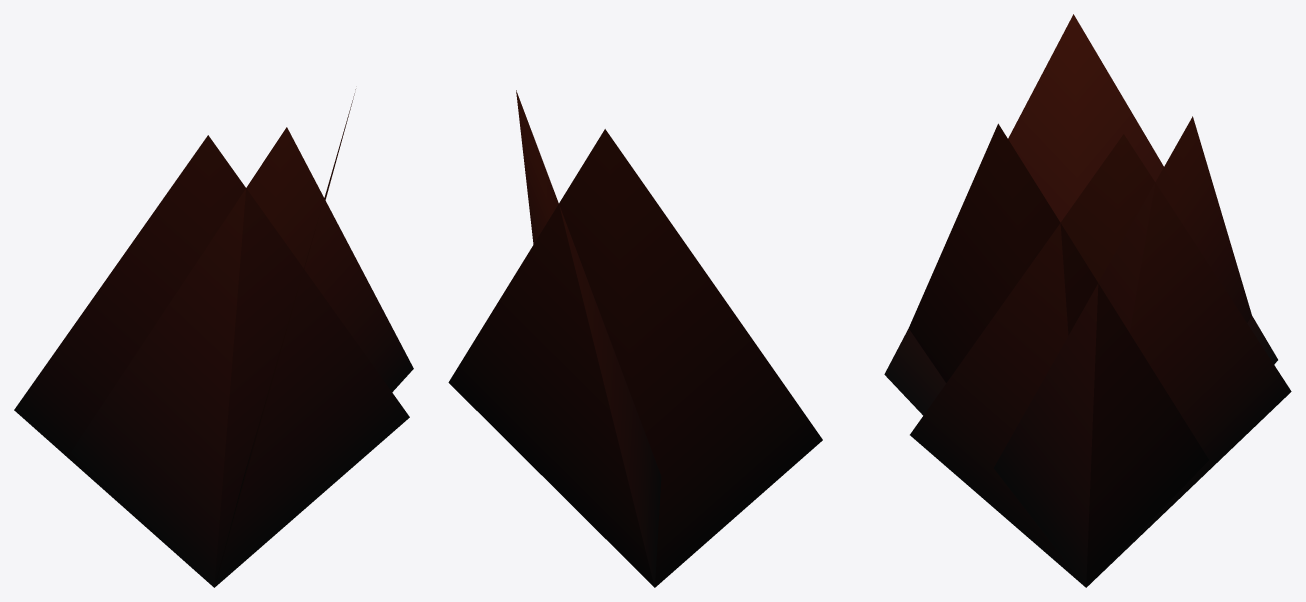
File: fern.glb
3 views of the same model, side by side, from view 1: azimuth 30°, elevation 25°; view 2: azimuth 150°, elevation 25°; view 3: azimuth 270°, elevation 25° (orthographic).
Visible parts, largest first — view 1: leaves_fern.005, leaves_fern, leaves_fern.003; view 2: leaves_fern.004, leaves_fern.001; view 3: leaves_fern.006, leaves_fern.003, leaves_fern.001, leaves_fern.002.
Boxes of the visible parts, x1=… form: leaves_fern.005: x1=14, y1=135, x2=409, y2=587; leaves_fern: x1=71, y1=127, x2=413, y2=587; leaves_fern.003: x1=216, y1=89, x2=355, y2=580; leaves_fern.004: x1=448, y1=129, x2=822, y2=587; leaves_fern.001: x1=516, y1=90, x2=661, y2=587; leaves_fern.006: x1=910, y1=134, x2=1291, y2=587; leaves_fern.003: x1=908, y1=123, x2=1208, y2=587; leaves_fern.001: x1=994, y1=116, x2=1251, y2=587; leaves_fern.002: x1=884, y1=14, x2=1277, y2=415.
Bounding box in the file's own units: 0.4474 × 0.6298 × 0.4531.
